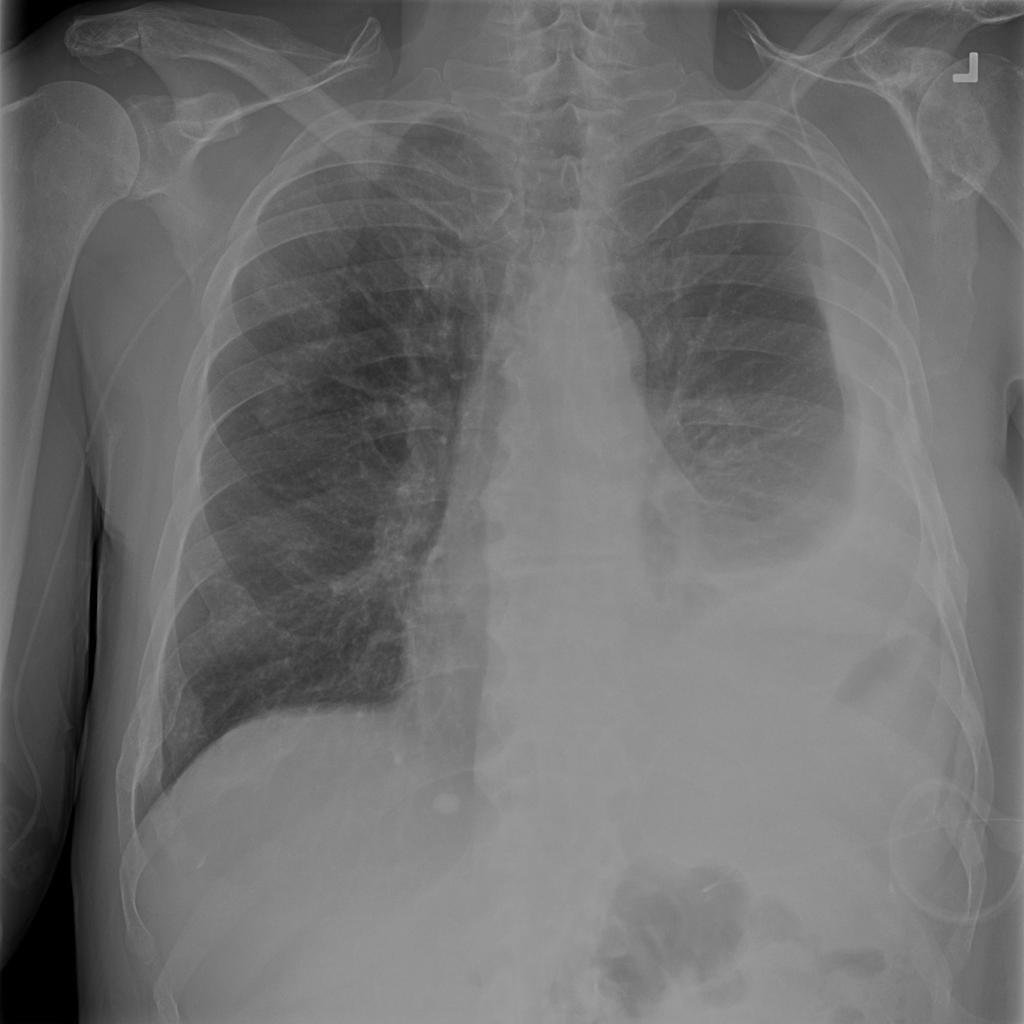nodule: (421, 777, 471, 829)
